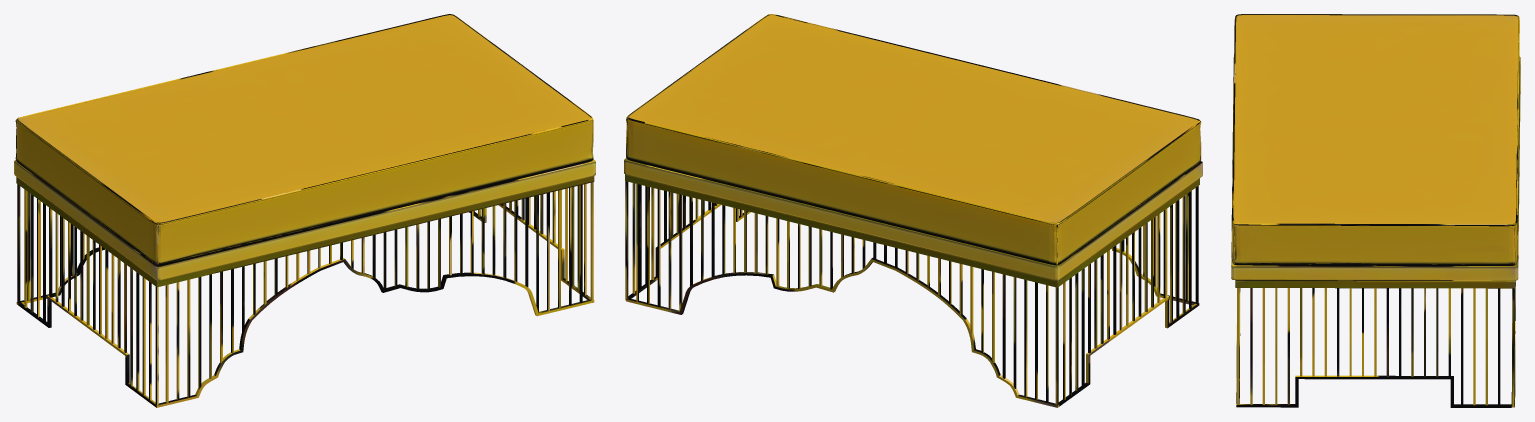
The model's file is edited_mesh.glb.
3 views of the same model, side by side, from view 1: azimuth 30°, elevation 25°; view 2: azimuth 150°, elevation 25°; view 3: azimuth 270°, elevation 25° (orthographic).
Parts seen in each view (by area): view 1: solid_001_wire; view 2: solid_001_wire; view 3: solid_001_wire.
Boxes of the visible parts, x1,y1,x2,y2 form: solid_001_wire: (14,14,595,407); solid_001_wire: (624,14,1202,407); solid_001_wire: (1231,14,1520,407).
Bounding box in the file's own units: 2 × 0.8071 × 1.16.
Materials: 1 (1 with a texture image).
